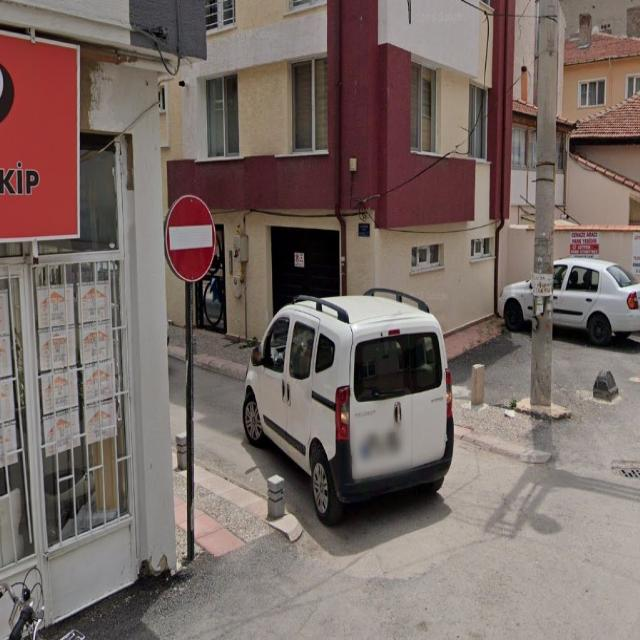girisyok: (165, 193, 217, 280)
